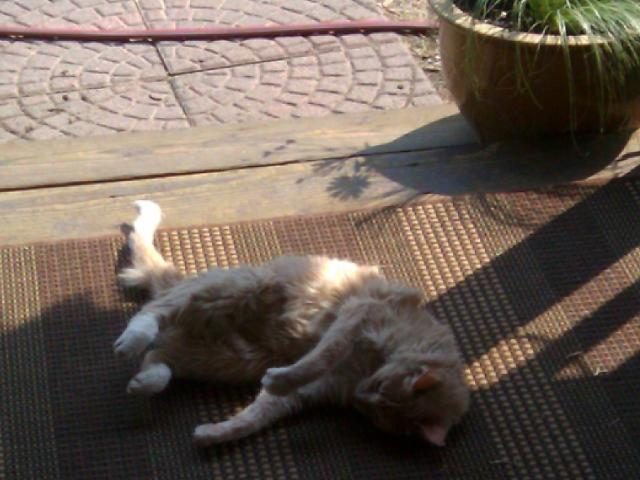Cat: (116, 201, 464, 441)
